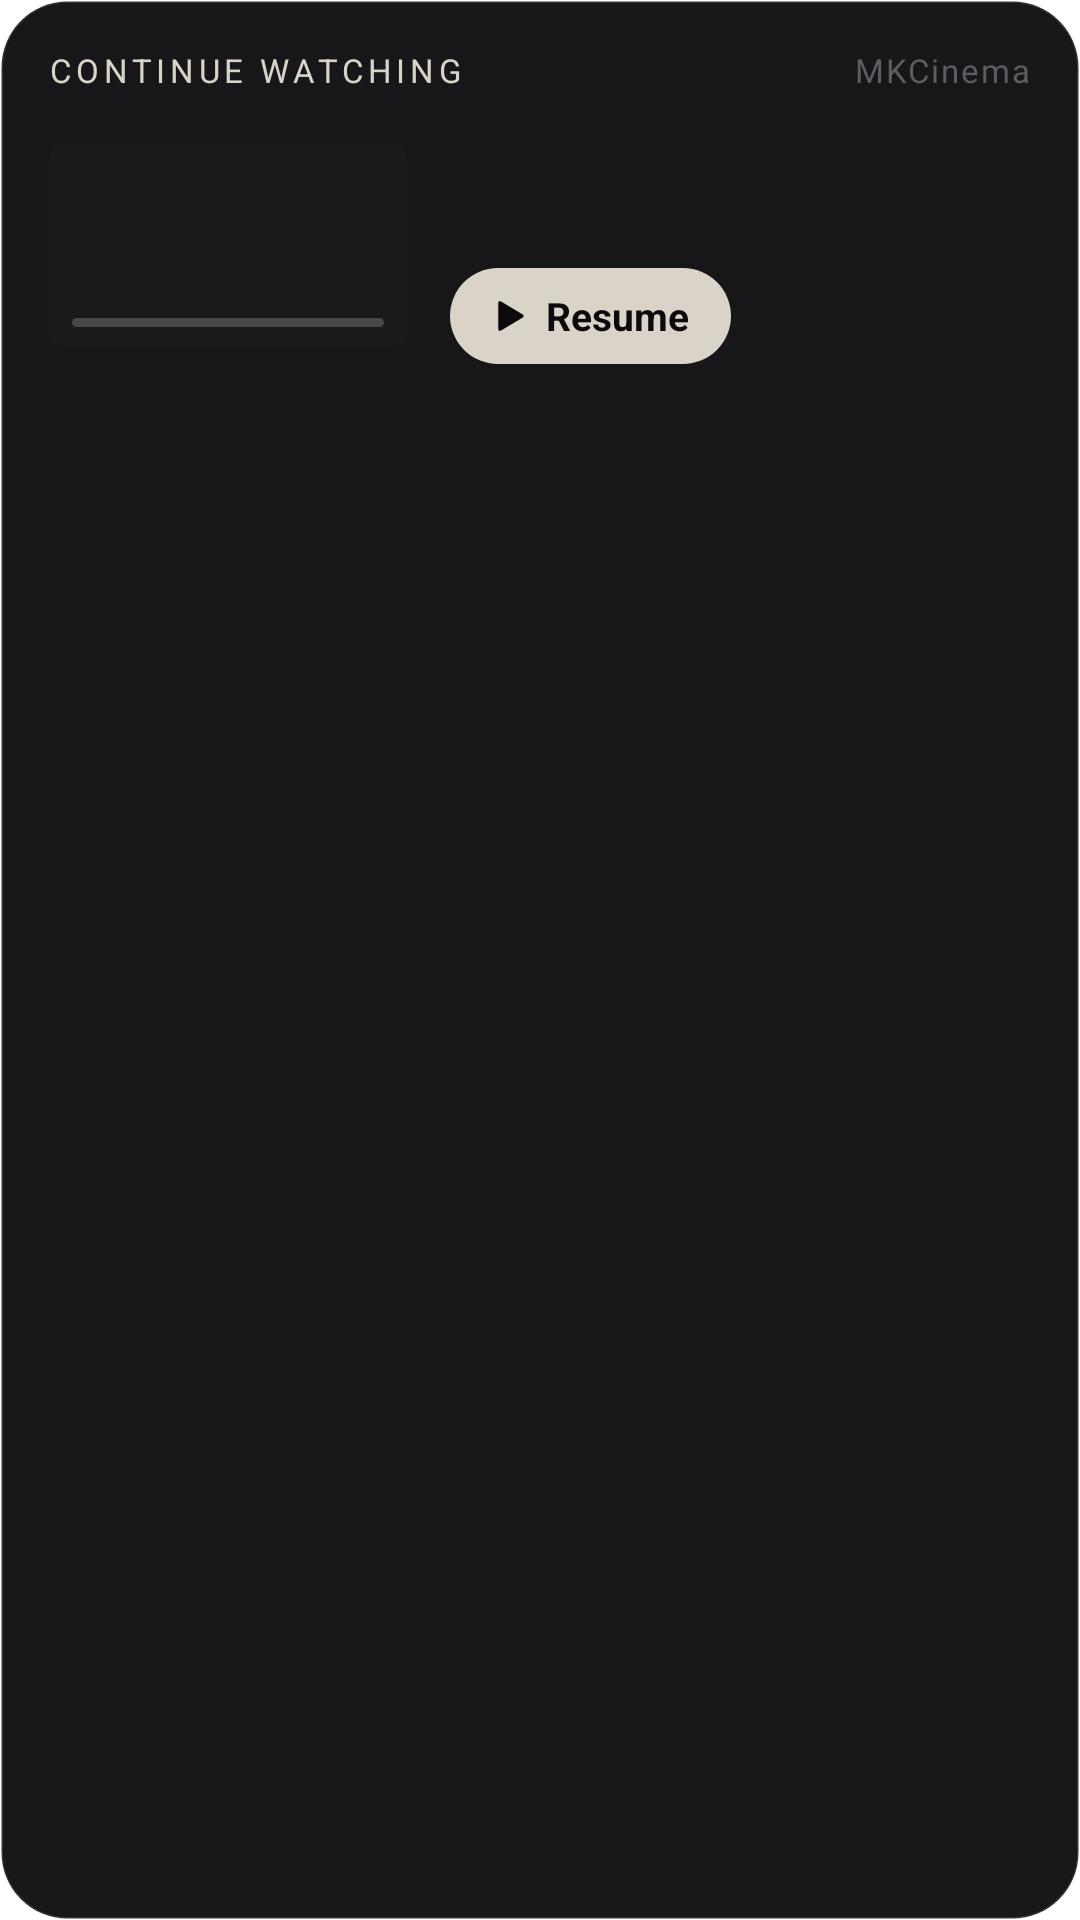

Where icons sit on this 1080x1920 app screen, as (left=x1, top=y1, right=x2, bottom=y2):
widget play: (left=498, top=301, right=524, bottom=331)
